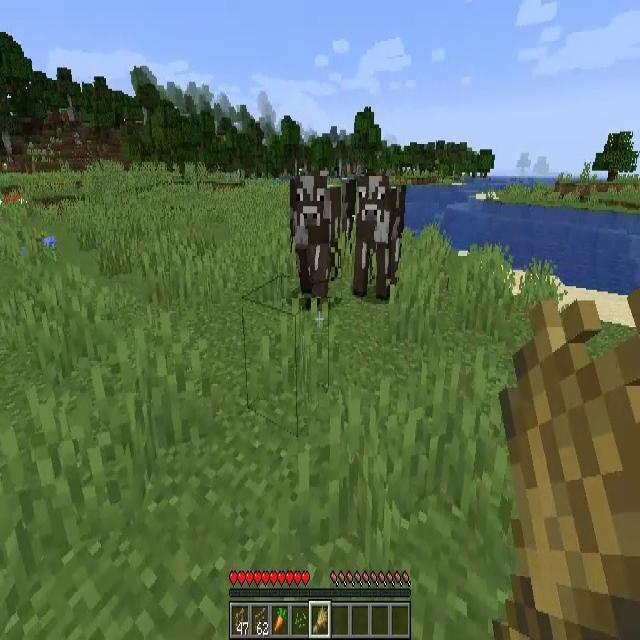cow: (290, 176, 342, 298), (355, 176, 404, 297)
